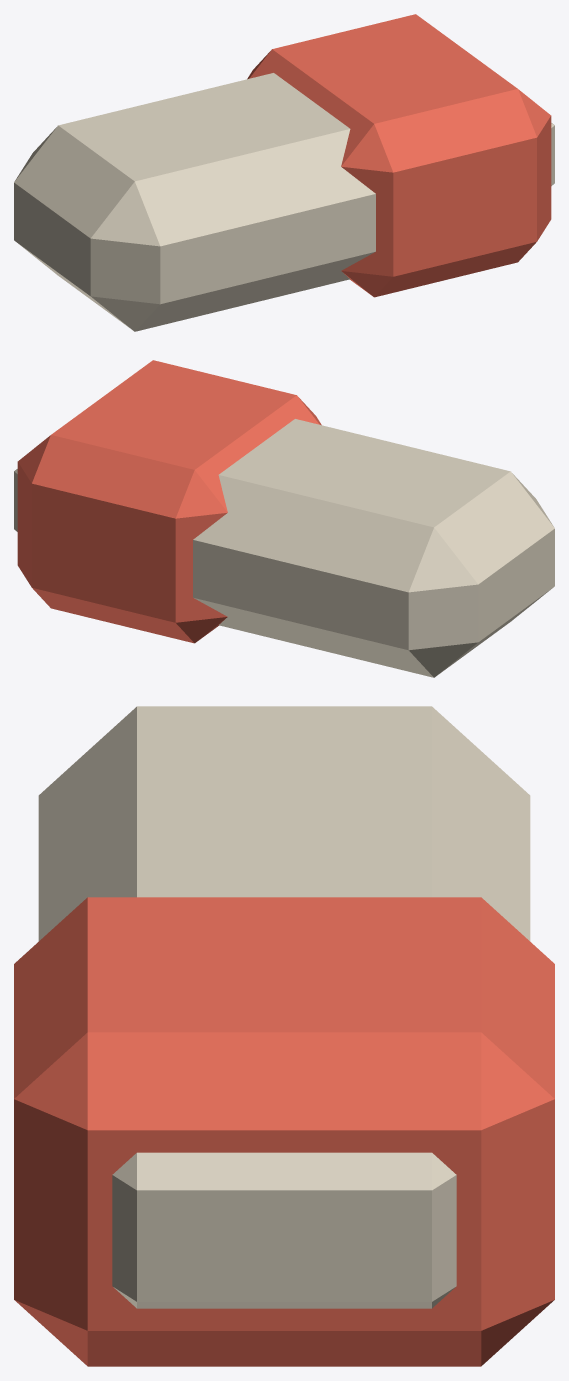
The model's file is eraser.glb.
3 renders of one model, top to bottom at view 1: azimuth 30°, elevation 25°; view 2: azimuth 150°, elevation 25°; view 3: azimuth 270°, elevation 25°, orthographic. The views are drawn at different scales.
Parts seen in each view (by area): view 1: eraser; view 2: eraser; view 3: eraser.
Part boxes in pixels (x1=…): eraser: x1=14, y1=14, x2=554, y2=331; eraser: x1=14, y1=360, x2=554, y2=677; eraser: x1=14, y1=706, x2=554, y2=1366.
Bounding box in the file's own units: 0.084 × 0.03 × 0.044.
